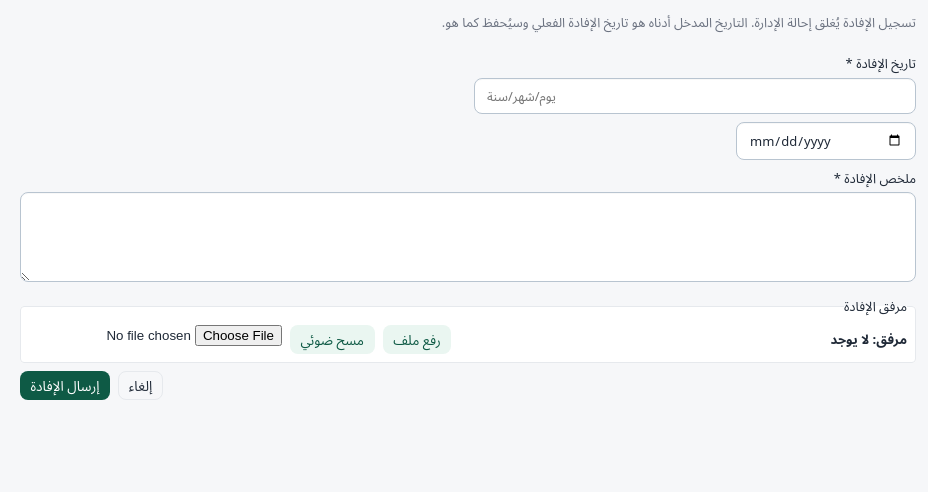
Test: CompleteResponseFormPanel › does not submit without a response date
Type "ملخص الإفادة" into the text box labelled "ملخص الإفادة *" at x=468, y=237, box [20,192,916,282]
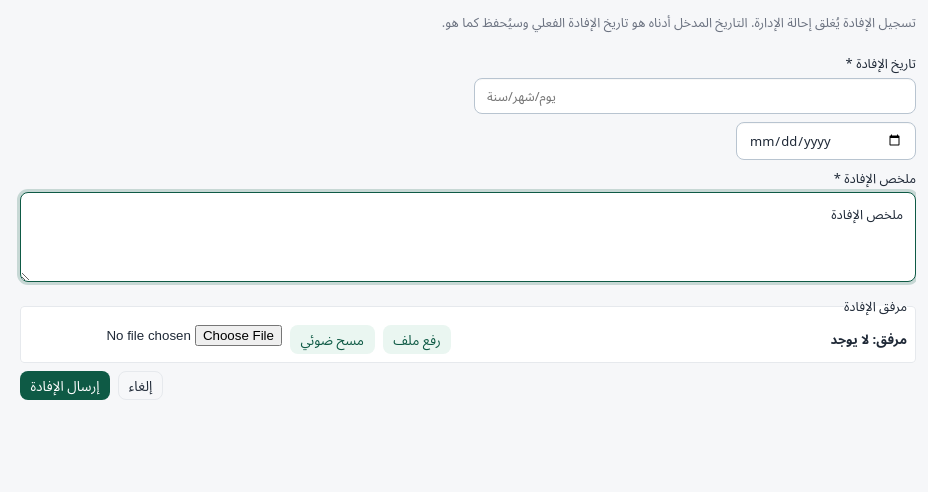
Click the button "إرسال الإفادة" at x=65, y=386, box [20,371,110,400]
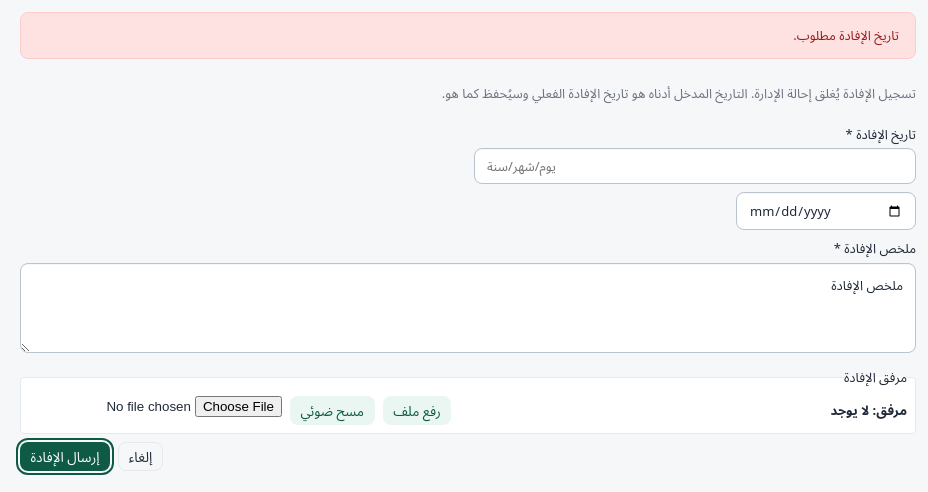
Expected: the text "تاريخ الإفادة مطلوب." is shown, [20,12,916,59]
